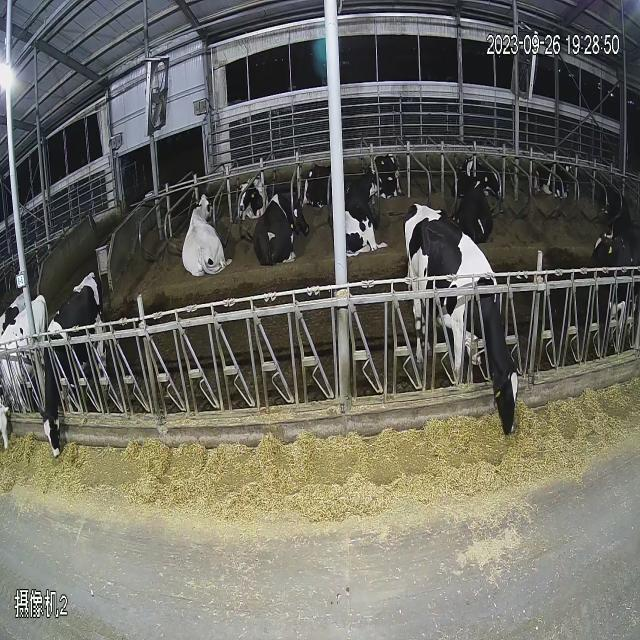feeding: (393, 195, 554, 460), (42, 262, 116, 498), (0, 242, 36, 474)
lying down: (180, 176, 233, 300), (341, 143, 379, 268), (264, 175, 312, 268), (448, 168, 496, 240), (378, 149, 418, 197), (236, 170, 270, 220)
